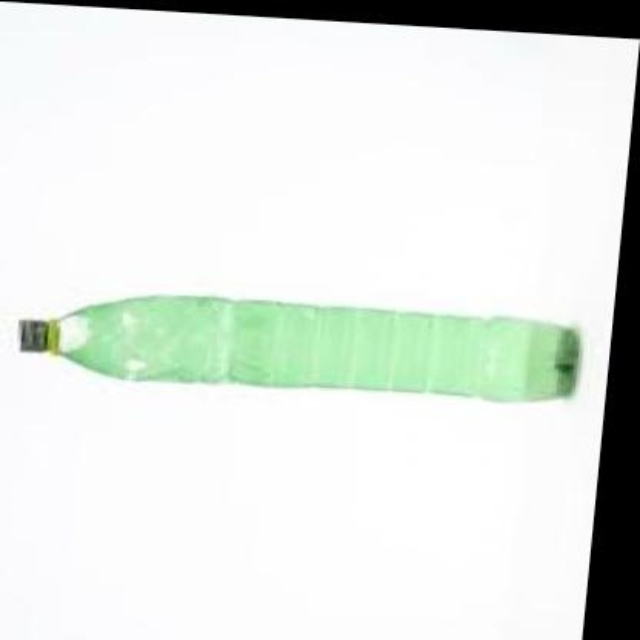trash: (20, 295, 578, 400)
